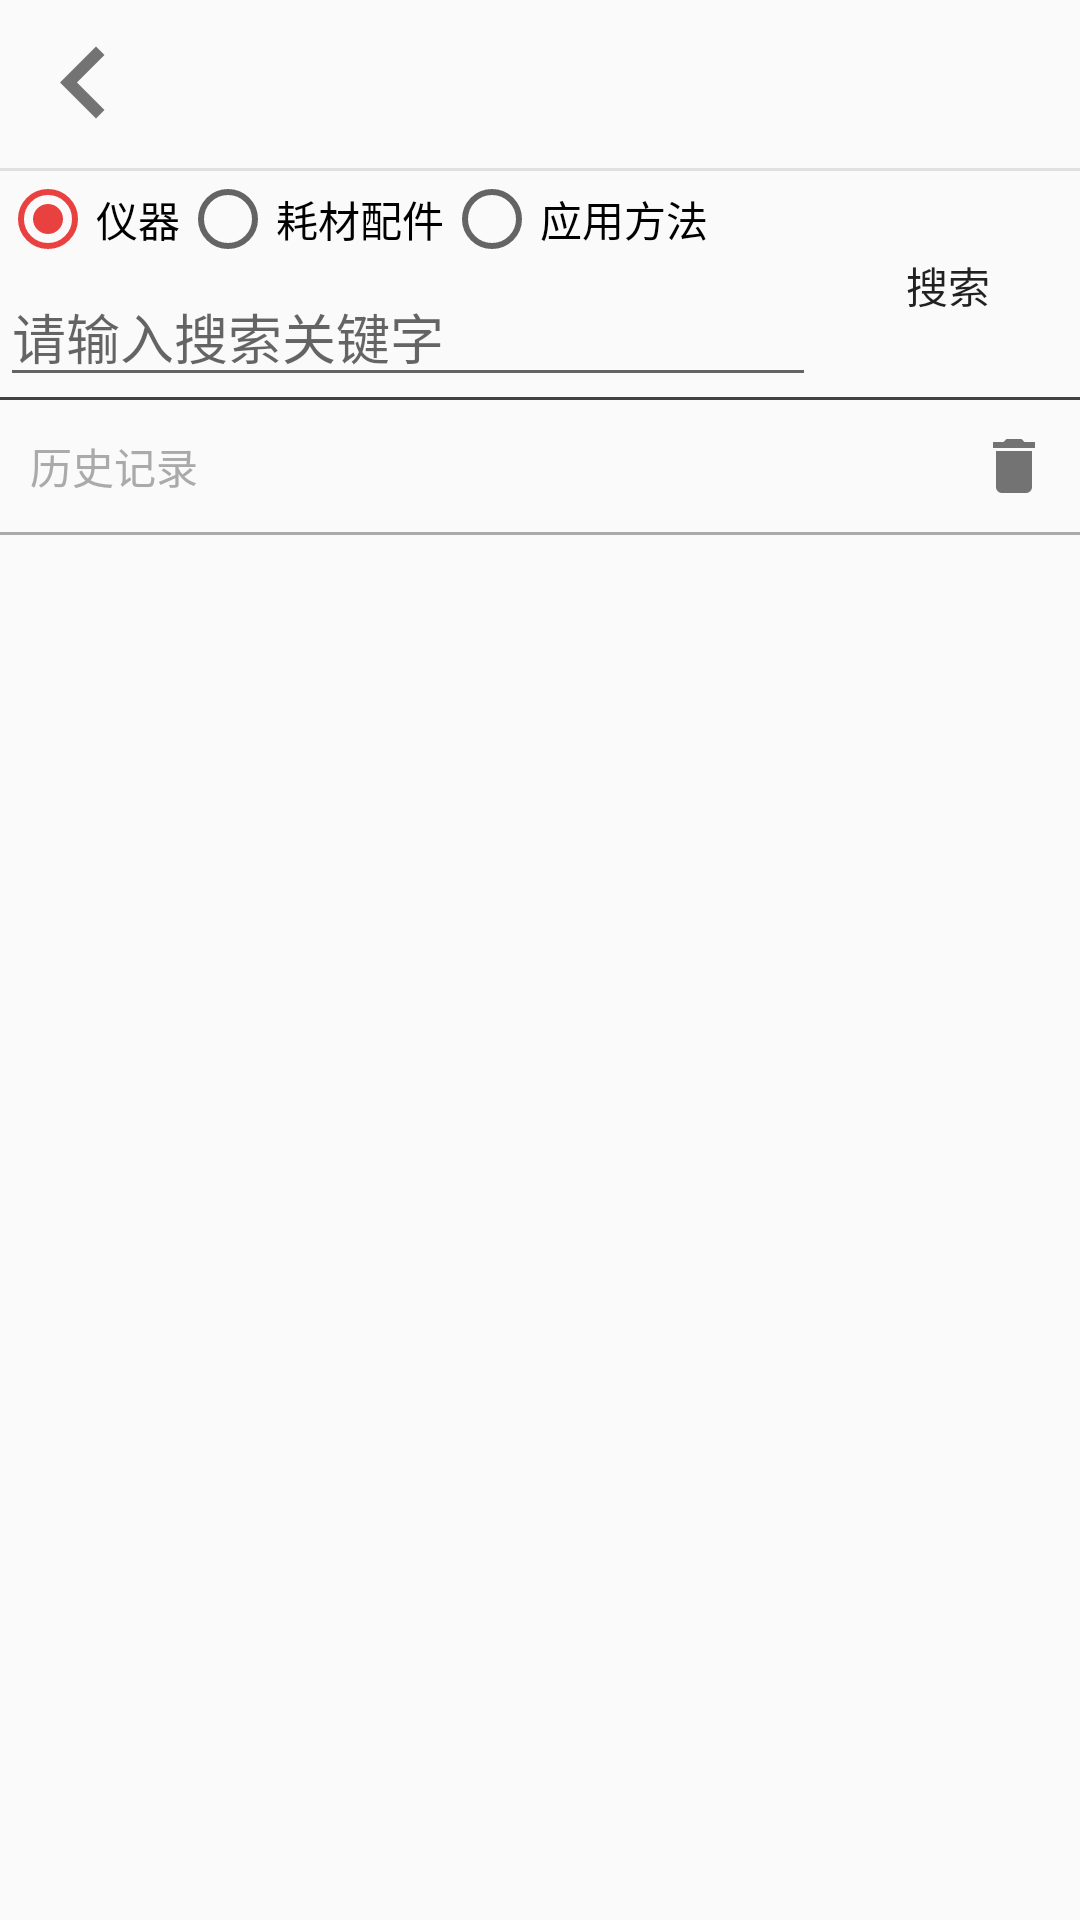

Screen size 1080*1920. Icon name, then its center in pixels as [x,y]:
delete: [1014,466]
